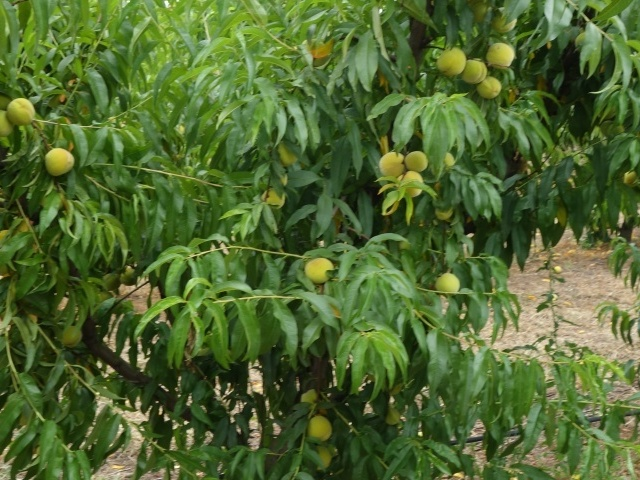peach: (301, 252, 338, 290), (432, 42, 467, 79), (39, 144, 77, 178), (4, 96, 40, 130), (482, 39, 518, 71), (304, 409, 335, 446), (375, 148, 408, 181), (458, 54, 490, 87), (488, 2, 517, 38), (257, 183, 289, 214), (432, 270, 463, 301), (400, 145, 430, 177), (399, 168, 428, 201), (475, 73, 504, 105), (55, 321, 84, 351), (296, 385, 323, 411), (430, 203, 458, 224), (116, 264, 139, 287), (382, 404, 403, 429), (99, 269, 122, 291)
